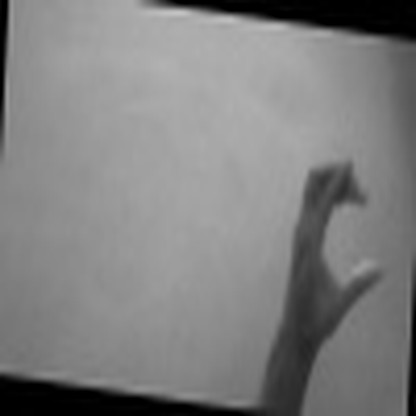c: (281, 150, 387, 348)
